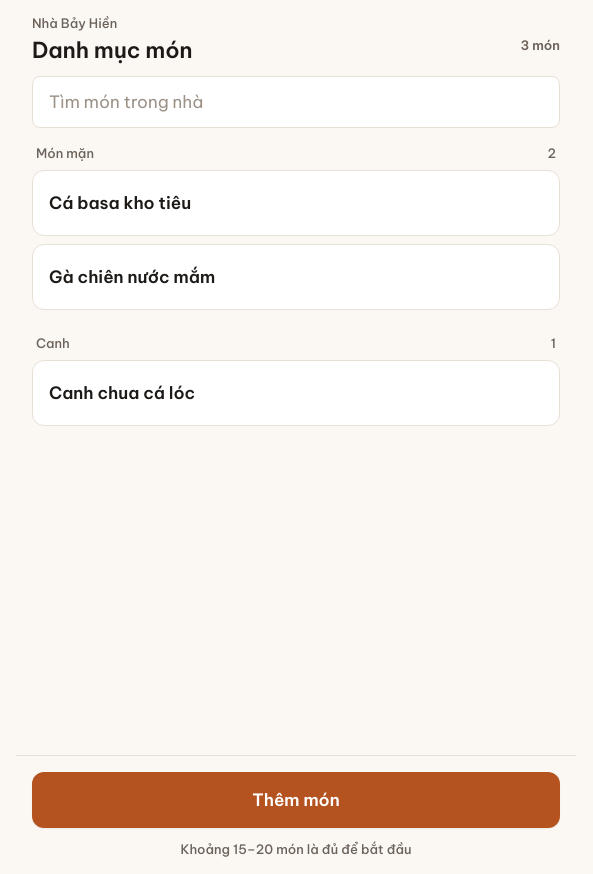
it: DishCatalogScreen (S-05) › tìm không ra thì hiện thẻ không khớp, đúng nháy cong
Type "phở" into the search field labelled "Tìm món trong nhà" at (296, 102), box [32,76,560,128]
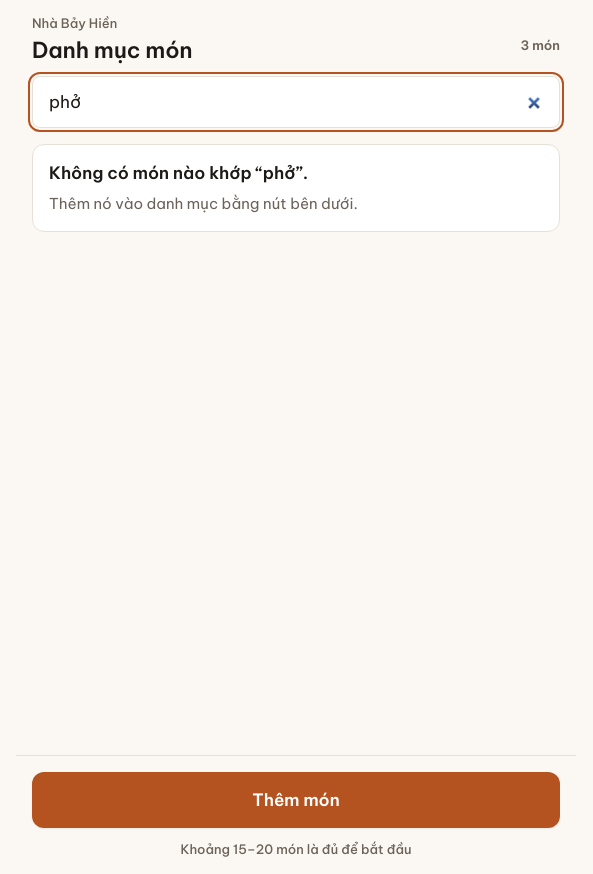
expect the text "Không có món nào khớp “phở”." is shown: met, box [49,162,308,184]
expect the text "Thêm nó vào danh mục bằng nút bên dưới." is shown: met, box [49,194,358,213]
